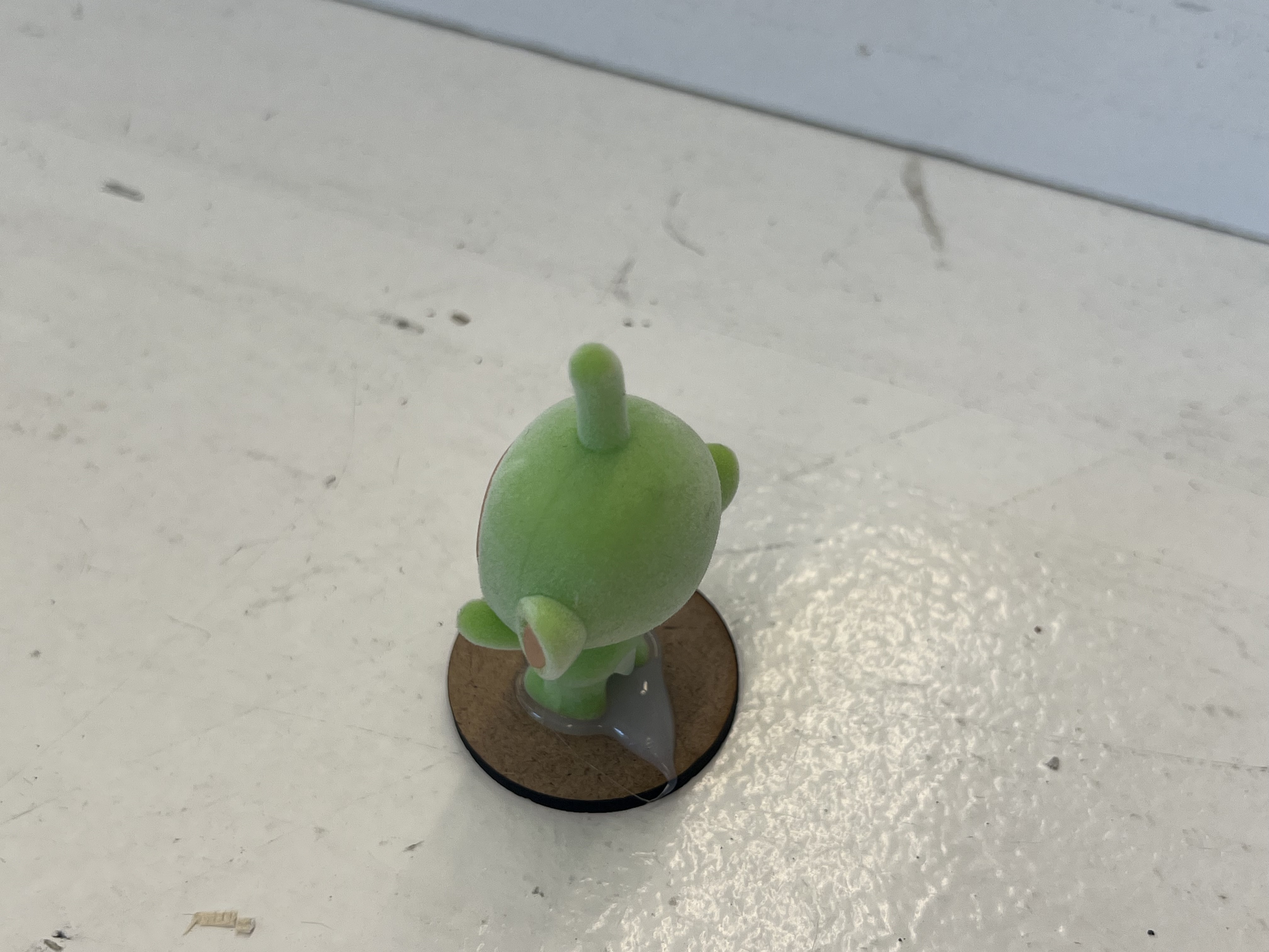teletubby: (458, 343, 739, 721)
